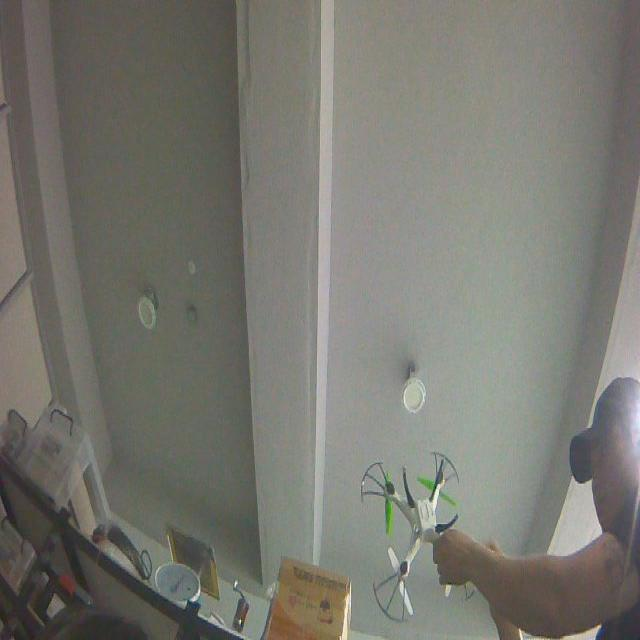drone: (358, 449, 482, 625)
